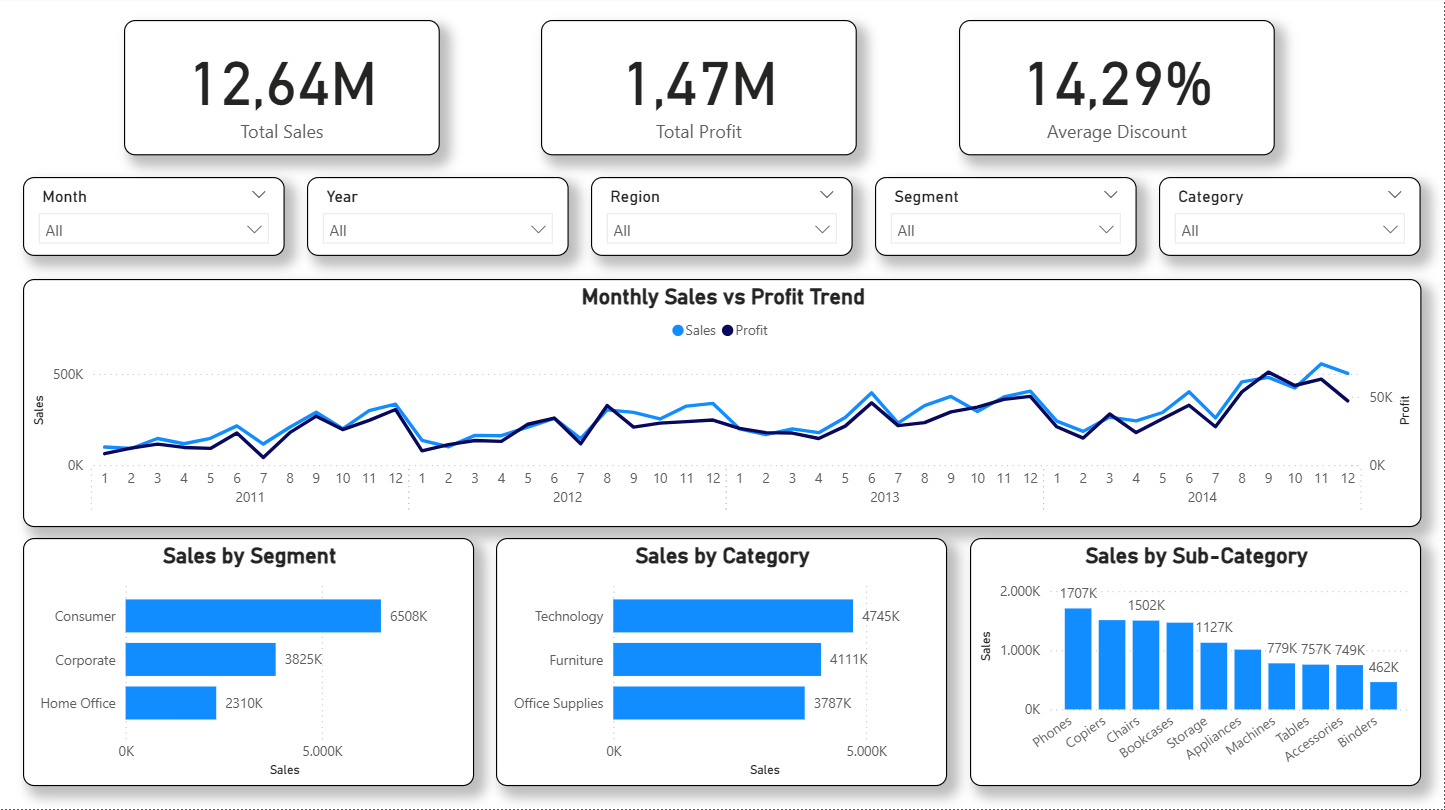

What the dashboard file says about the page in this screenshot:
{"tool":"powerbi","page":{"name":"Sales Overview","canvas":[1280,720],"ordinal":0},"visuals":[{"type":"card","fields":{"Values":["Sum(Global_Superstore_Clean.Sales)"]},"box":[110,20,280.1,120],"z":0},{"type":"card","fields":{"Values":["Avg(Global_Superstore_Clean.Discount)"]},"box":[850,20,280.1,120],"z":1000},{"type":"card","fields":{"Values":["Sum(Global_Superstore_Clean.Profit)"]},"box":[480,20,280.1,120],"z":2000},{"type":"slicer","fields":{"Values":["Calendar.MonthNo"]},"box":[20,160,232,70],"z":3000},{"type":"slicer","fields":{"Values":["Global_Superstore_Clean.Region"]},"box":[524,160,232,70],"z":4000},{"type":"slicer","fields":{"Values":["Global_Superstore_Clean.Segment"]},"box":[776,160,232,70],"z":5000},{"type":"slicer","fields":{"Values":["Global_Superstore_Clean.Category"]},"box":[1028,160,232,70],"z":6000},{"type":"slicer","fields":{"Values":["Calendar.YearNo"]},"box":[272,160,232,70],"z":7000},{"type":"lineChart","title":"Monthly Sales vs Profit Trend","fields":{"Category":["Calendar.YearNo","Calendar.MonthNo"],"Y":["Sum(Global_Superstore_Clean.Sales)"],"Y2":["Sum(Global_Superstore_Clean.Profit)"]},"box":[20,250,1240,220],"z":8000},{"type":"barChart","title":"Sales by Segment","fields":{"Category":["Global_Superstore_Clean.Segment"],"Y":["Sum(Global_Superstore_Clean.Sales)"]},"box":[20,480,400,220],"z":9000},{"type":"barChart","title":"Sales by Category","fields":{"Category":["Global_Superstore_Clean.Category"],"Y":["Sum(Global_Superstore_Clean.Sales)"]},"box":[440,480,400,220],"z":10000},{"type":"clusteredColumnChart","title":"Sales by Sub-Category","fields":{"Category":["Global_Superstore_Clean.Sub-Category"],"Y":["Sum(Global_Superstore_Clean.Sales)"]},"box":[860,480,400,220],"z":11000}]}

Visuals, with their boxes in screenshot pixels (x1, y1, x2, y2), scaled from the page's 1280x720 canvas onto the 1445x810 screenshot:
card - Sum(Global_Superstore_Clean.Sales): (124, 22, 440, 158)
card - Avg(Global_Superstore_Clean.Discount): (960, 22, 1276, 158)
card - Sum(Global_Superstore_Clean.Profit): (542, 22, 858, 158)
slicer - Calendar.MonthNo: (23, 180, 284, 259)
slicer - Global_Superstore_Clean.Region: (592, 180, 853, 259)
slicer - Global_Superstore_Clean.Segment: (876, 180, 1138, 259)
slicer - Global_Superstore_Clean.Category: (1161, 180, 1422, 259)
slicer - Calendar.YearNo: (307, 180, 569, 259)
"Monthly Sales vs Profit Trend" lineChart: (23, 281, 1422, 529)
"Sales by Segment" barChart: (23, 540, 474, 788)
"Sales by Category" barChart: (497, 540, 948, 788)
"Sales by Sub-Category" clusteredColumnChart: (971, 540, 1422, 788)
